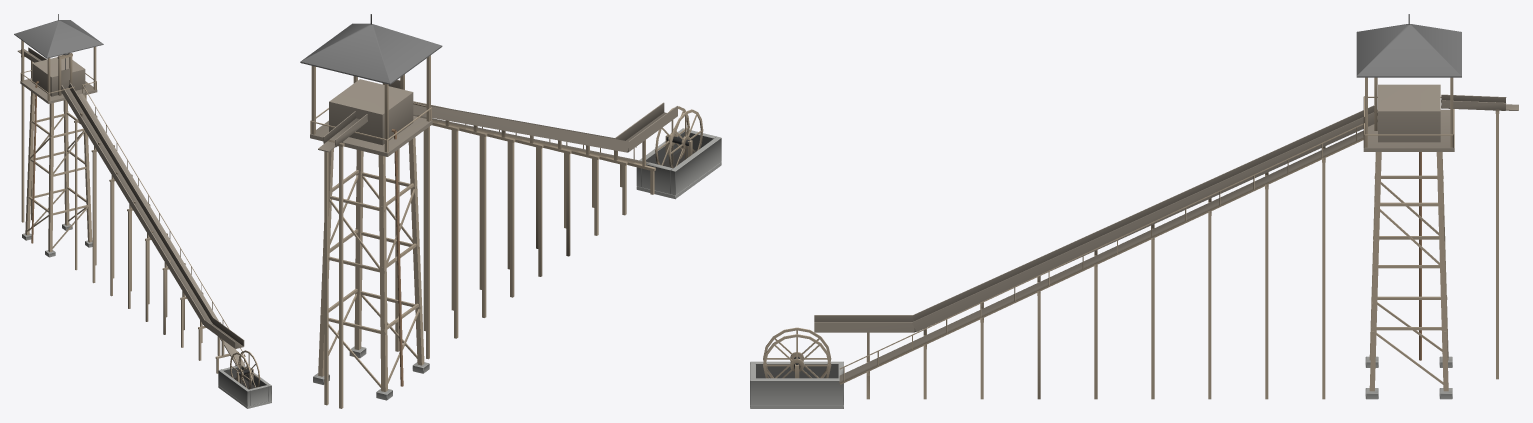
Rendered from mill_race_lod1.glb.
3 renders of one model, left to right at view 1: azimuth 30°, elevation 25°; view 2: azimuth 150°, elevation 25°; view 3: azimuth 270°, elevation 25°, orthographic. The views are drawn at different scales.
Visible parts, largest first — view 1: static; view 2: static; view 3: static.
Part boxes in pixels (x1,y1,x2,y2): static: (14, 14, 271, 408); static: (300, 14, 721, 408); static: (750, 14, 1518, 408).
Bounding box in the file's own units: 7.4 × 30.1 × 54.
